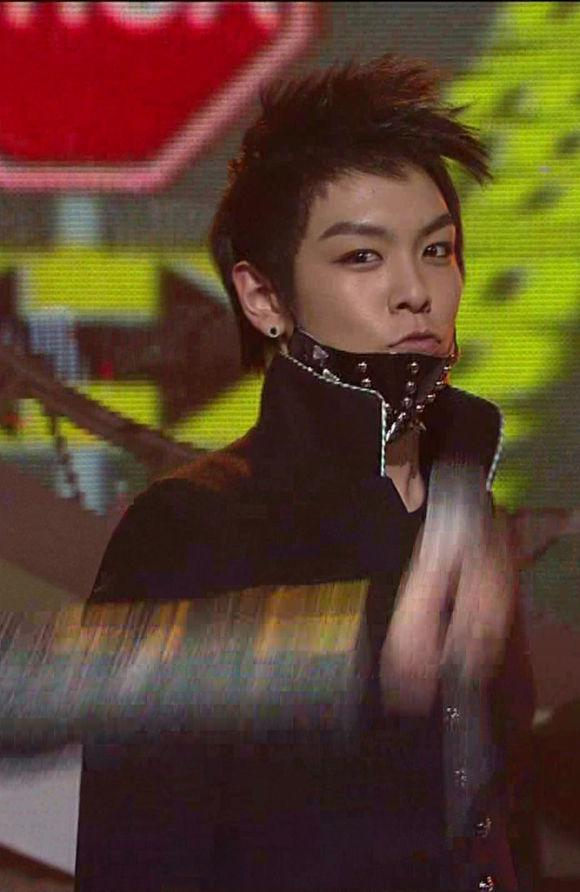WRONG: (288, 205, 470, 409)
